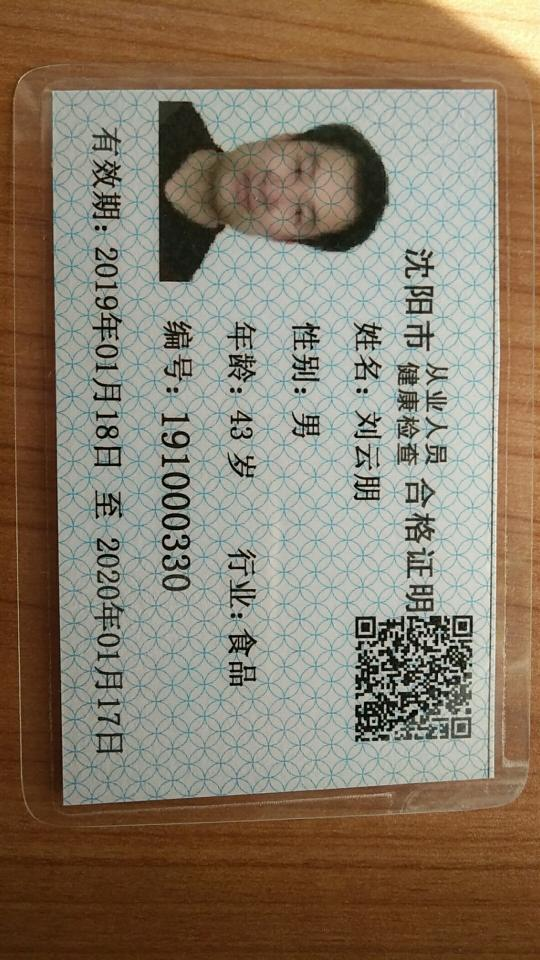qr: (343, 609, 480, 746)
